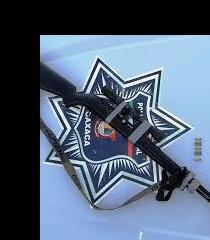larga: (40, 62, 210, 202)
